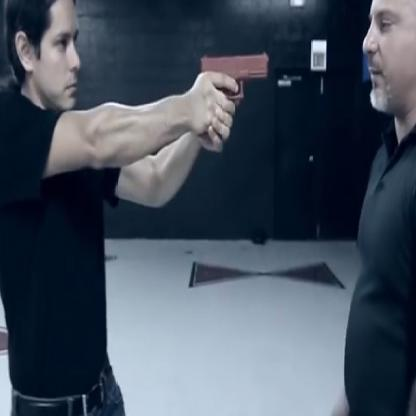gun: (198, 49, 270, 105)
